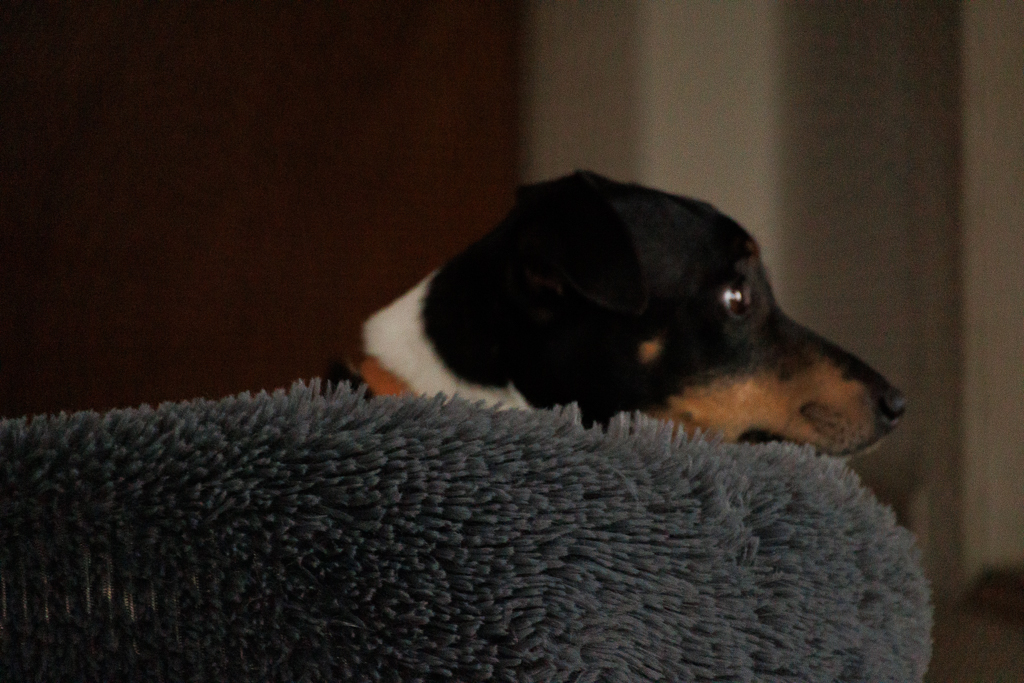Dog: (321, 165, 919, 493)
